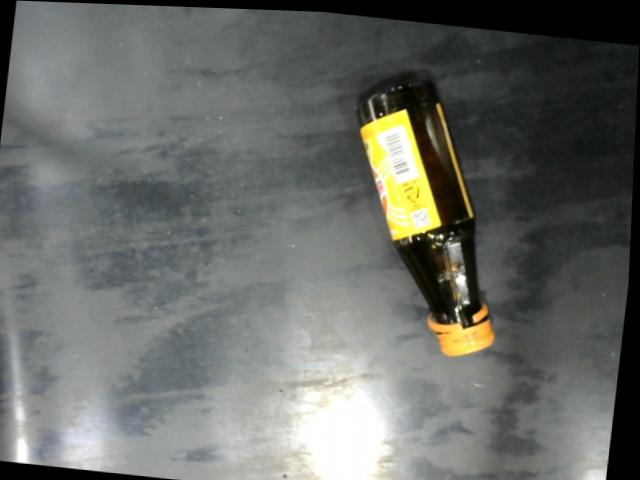glass: (332, 69, 525, 358)
